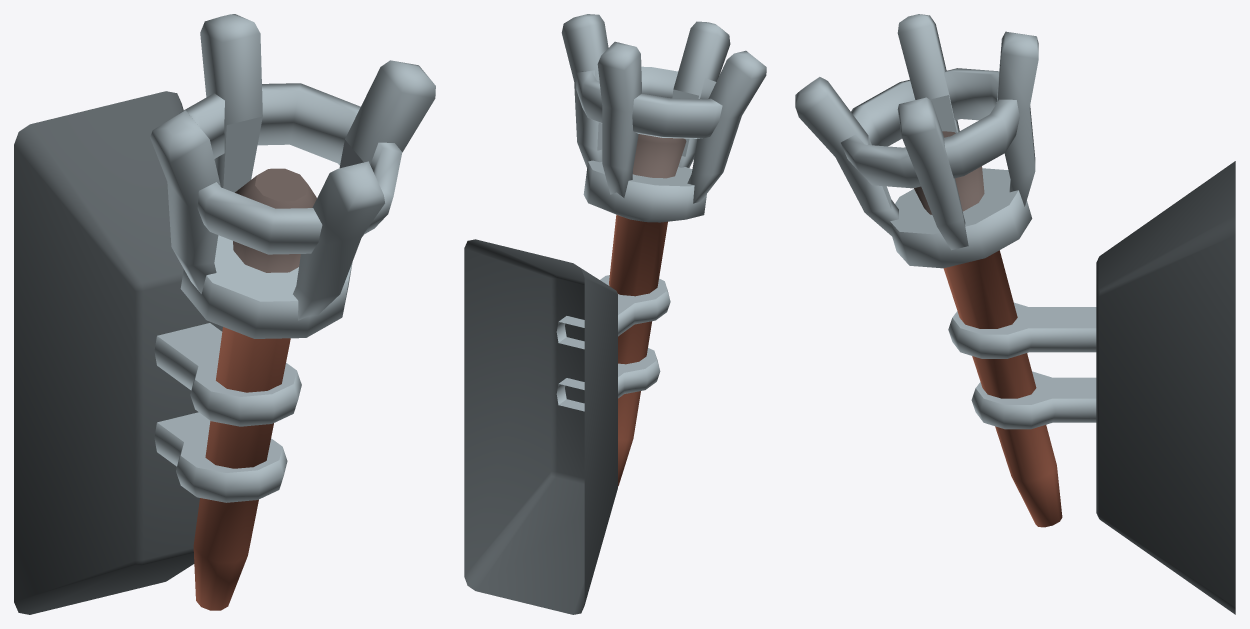
Rendered from TorchWall.glb.
3 renders of one model, left to right at view 1: azimuth 30°, elevation 25°; view 2: azimuth 150°, elevation 25°; view 3: azimuth 270°, elevation 25°, orthographic. The views are drawn at different scales.
Visible parts, largest first — view 1: torchWall; view 2: torchWall; view 3: torchWall.
Part boxes in pixels (bbox=[...]): torchWall: bbox=[14, 14, 435, 614]; torchWall: bbox=[464, 14, 766, 614]; torchWall: bbox=[795, 14, 1235, 614].
Bounding box in the file's own units: 0.6436 × 1.57 × 1.13.
